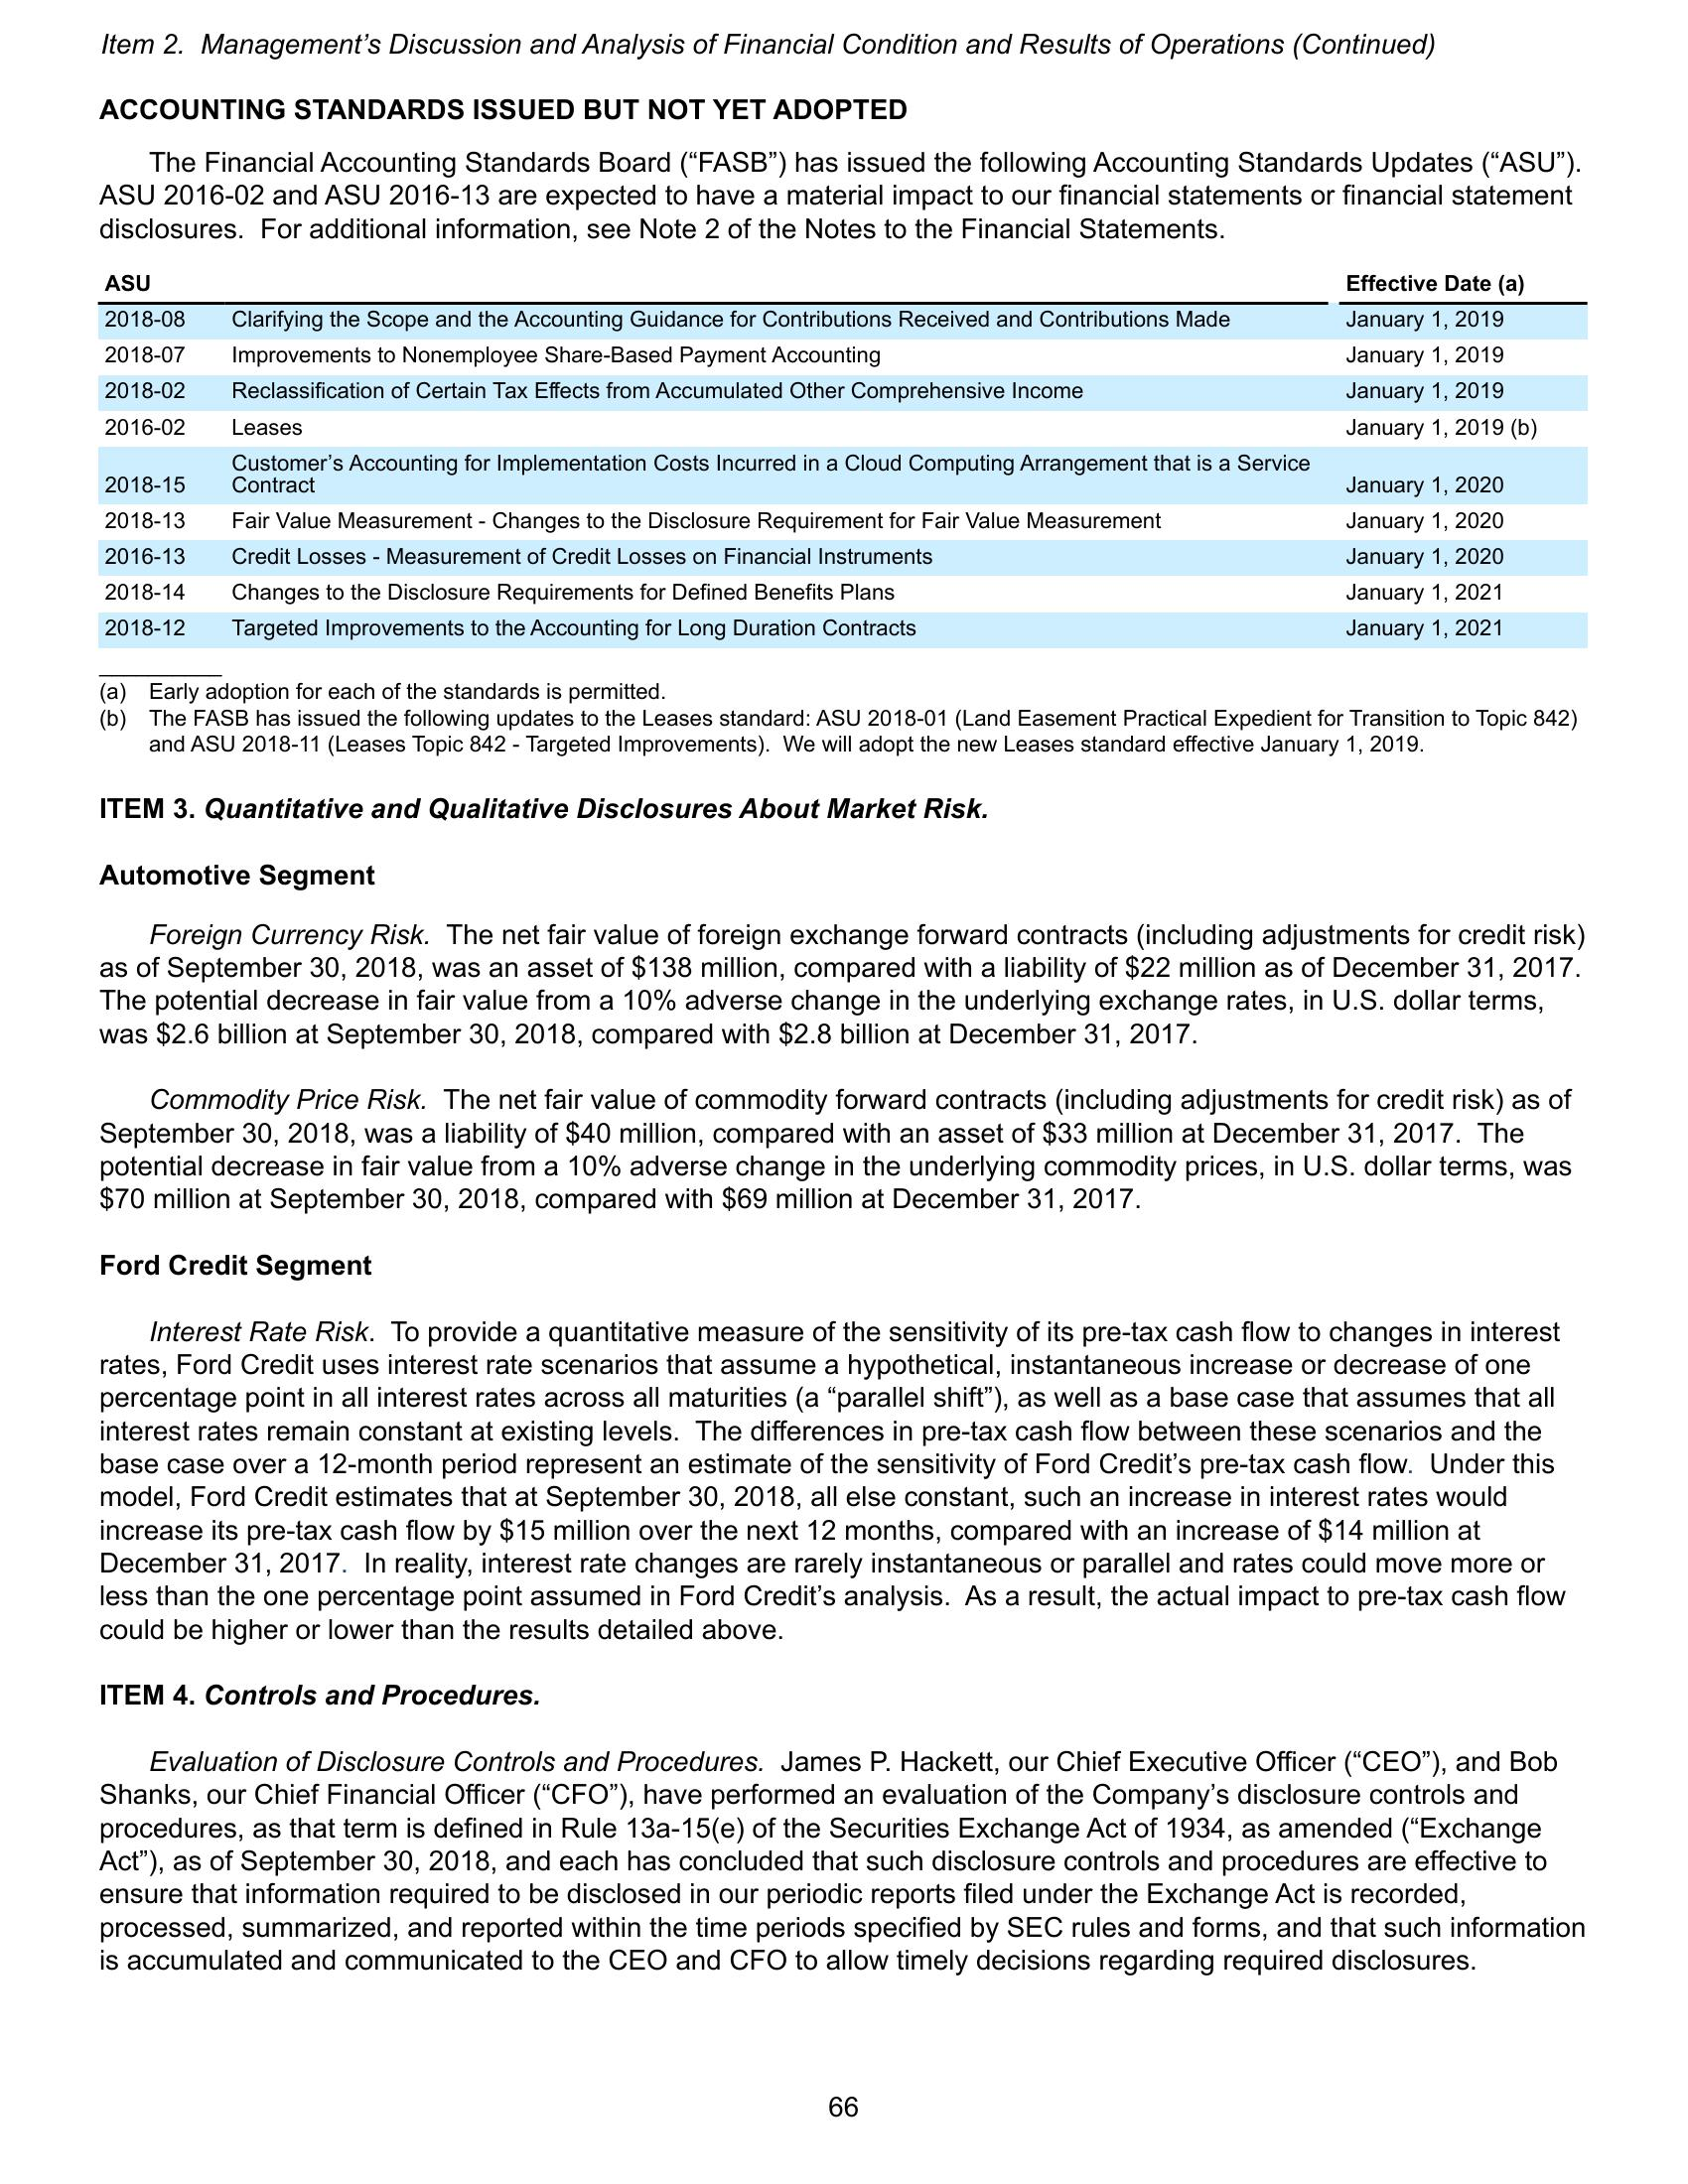table: (89, 266, 1599, 651)
